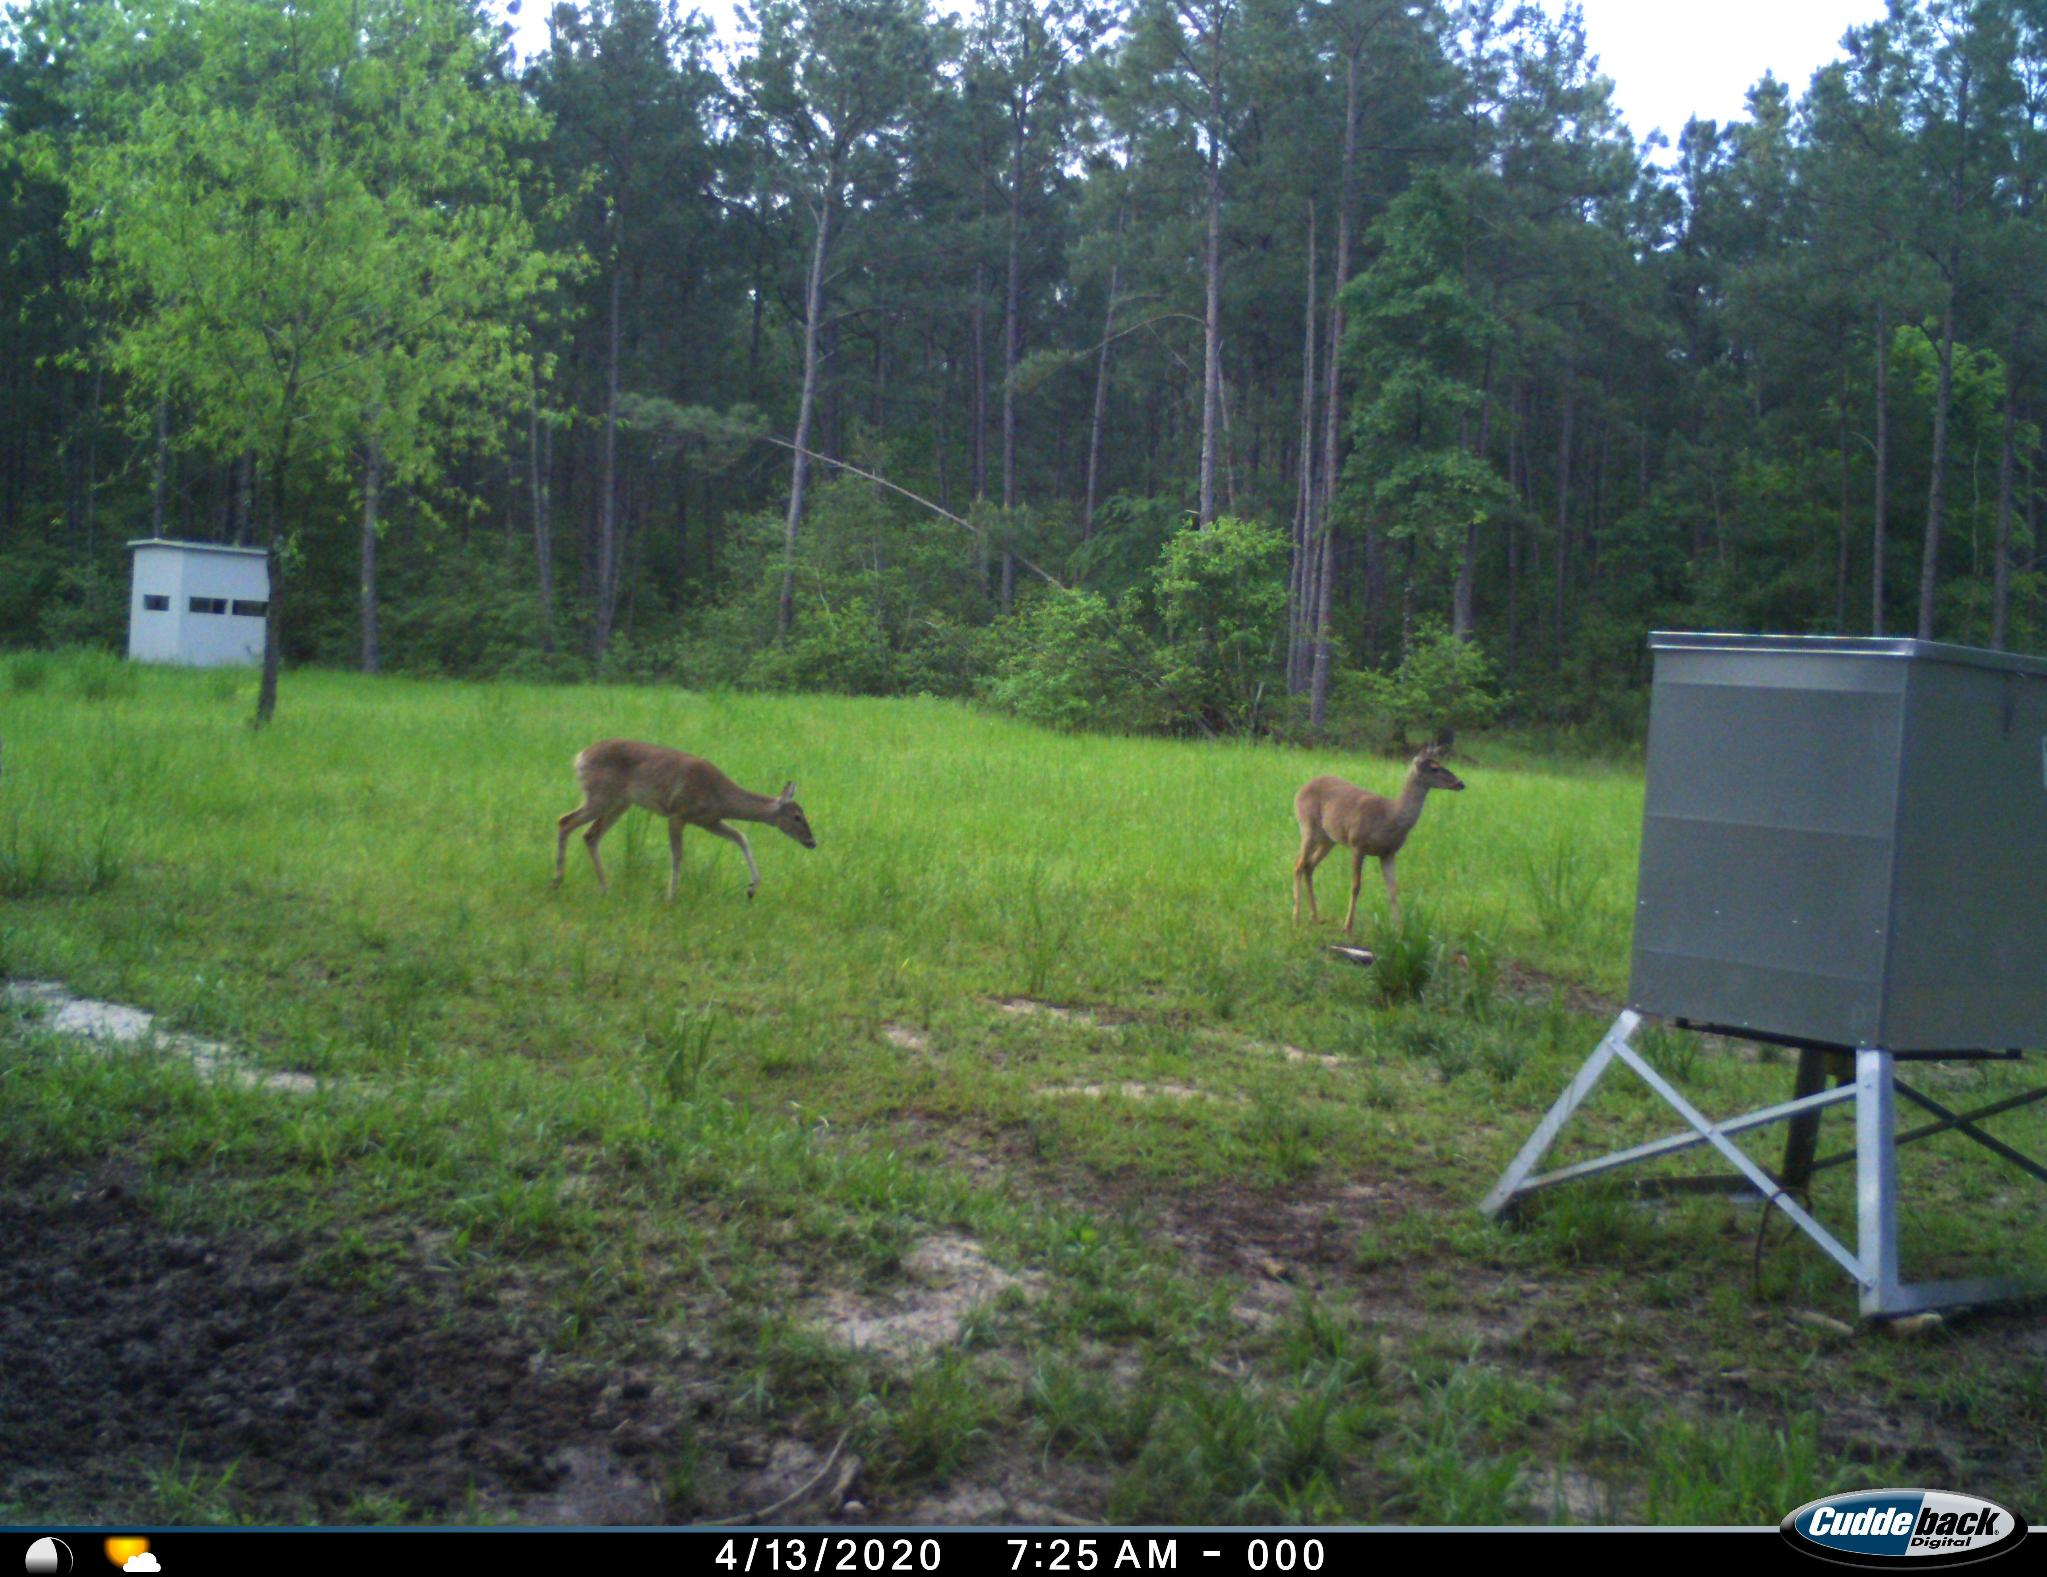Deer: (528, 731, 838, 923), (1275, 739, 1472, 949)
